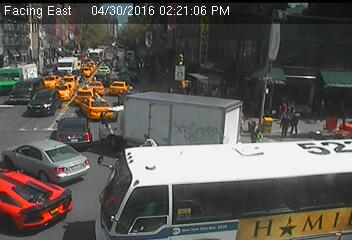neg: (60, 75, 80, 102), (58, 40, 72, 59), (24, 50, 36, 65), (96, 47, 106, 61)
pos: (269, 110, 294, 143), (245, 119, 266, 147), (292, 110, 313, 137), (179, 78, 194, 98)
